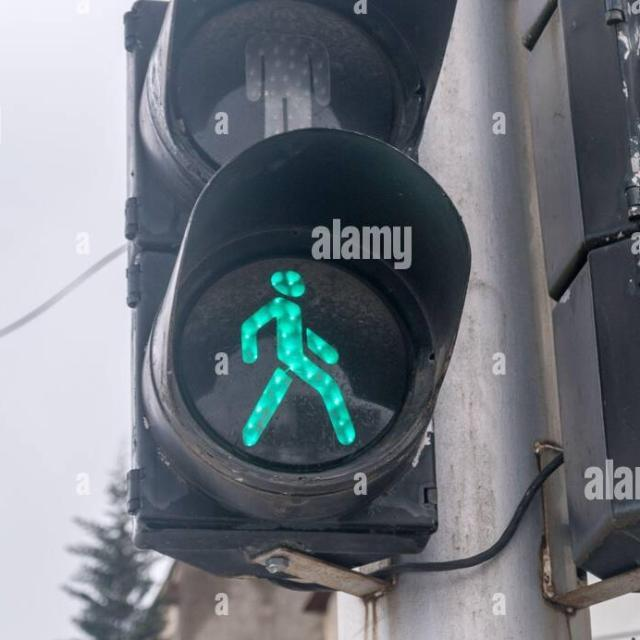green_light: (235, 257, 352, 456)
